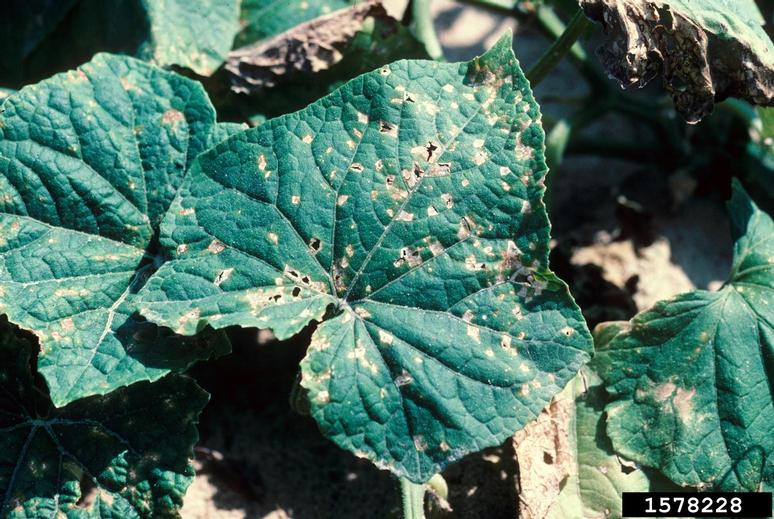Cucumber_AngularLeafSpot: (162, 42, 599, 459)
